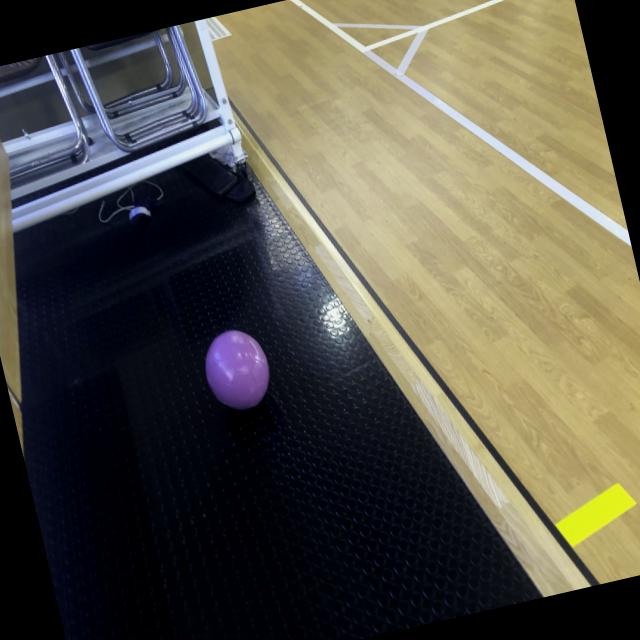purple_ball: (197, 321, 276, 414)
